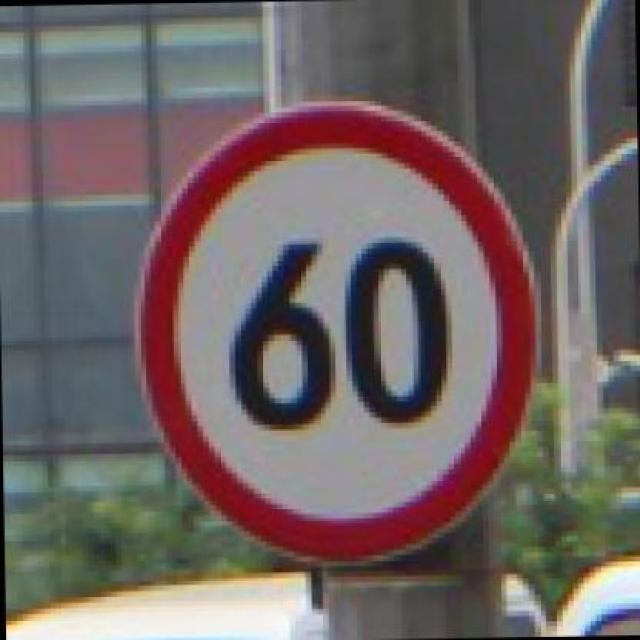Limite-60: (135, 95, 543, 567)
